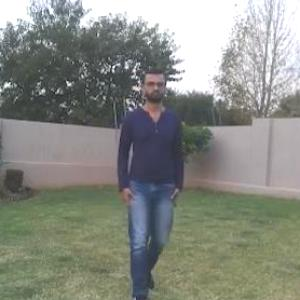follow: (117, 68, 181, 294)
